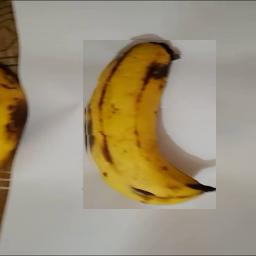Banana Semifresh: (83, 40, 216, 209)
